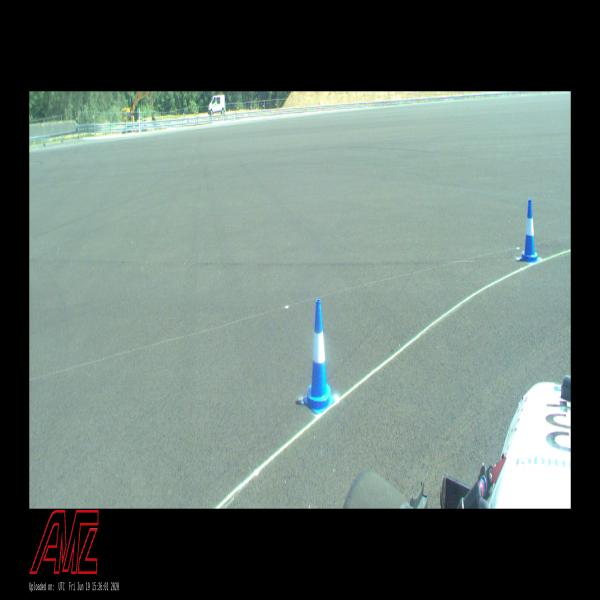blue_cone: (303, 299, 335, 414), (520, 199, 540, 263)
